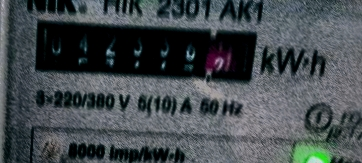0: (49, 30, 62, 59)
2: (101, 31, 119, 58)
3: (128, 30, 144, 60), (157, 31, 171, 59)
4: (75, 30, 91, 57)
6: (182, 37, 197, 64)
screen: (24, 10, 265, 94)
